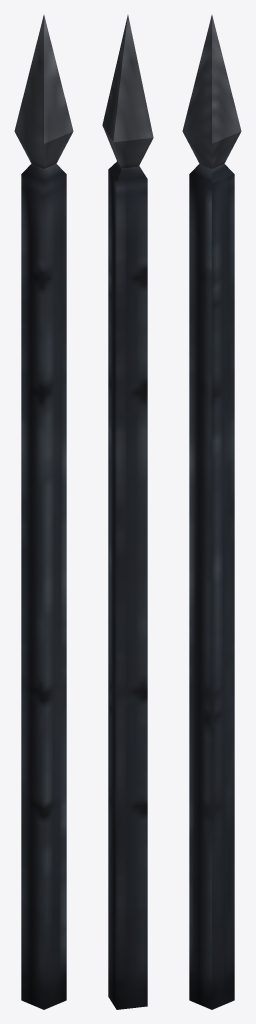
Rendered from env_cem_verja_08.FBX.
The picture shows the model from 3 angles, left to right: view 1: azimuth 90°, elevation 25°; view 2: azimuth 150°, elevation 25°; view 3: azimuth 270°, elevation 25°; orthographic projection.
Parts seen in each view (by area): view 1: env_cem_verja_08; view 2: env_cem_verja_08; view 3: env_cem_verja_08.
Part boxes in pixels (x1,y1,x2,y2): env_cem_verja_08: [14, 15, 73, 1009]; env_cem_verja_08: [102, 15, 153, 1009]; env_cem_verja_08: [182, 15, 241, 1009].
Bounding box in the file's own units: 25.85 × 476 × 25.85.
